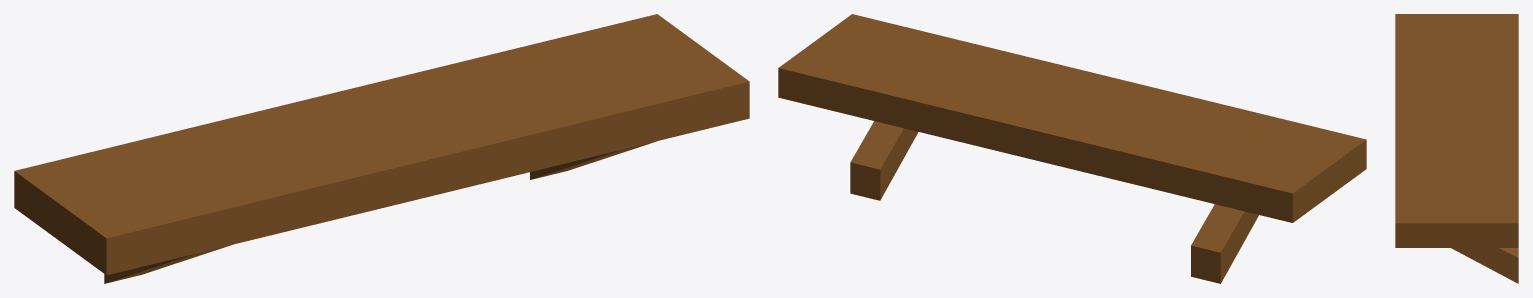
Rendered from furniture_shelf.fbx.
The picture shows the model from 3 angles, left to right: view 1: azimuth 30°, elevation 25°; view 2: azimuth 150°, elevation 25°; view 3: azimuth 270°, elevation 25°; orthographic projection. The views are drawn at different scales.
Parts seen in each view (by area): view 1: furniture_shelf; view 2: furniture_shelf; view 3: furniture_shelf.
Boxes of the visible parts, <box> form: furniture_shelf: <box>14,14,749,283</box>; furniture_shelf: <box>778,14,1366,283</box>; furniture_shelf: <box>1395,14,1518,283</box>.
Bounding box in the file's own units: 85.44 × 17.15 × 21.23.
